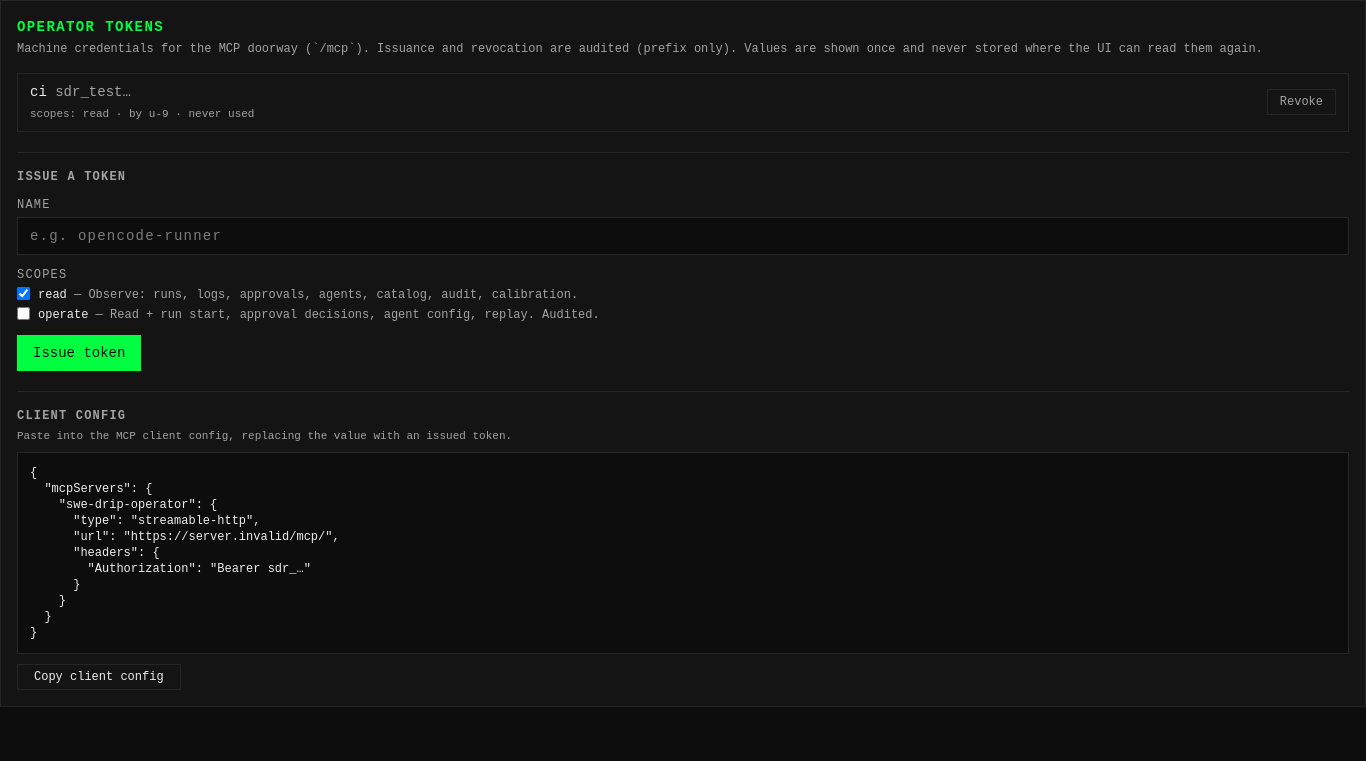
Test: OperatorTokens section › copy uses the clipboard and confirms
Expected: the text "ci" is shown, [30,84,47,100]
Step 1. Type "ci-2" into the field with placeholder "e.g. opencode-runner" → {"x": 683, "y": 236}, box [17,216,1349,254]
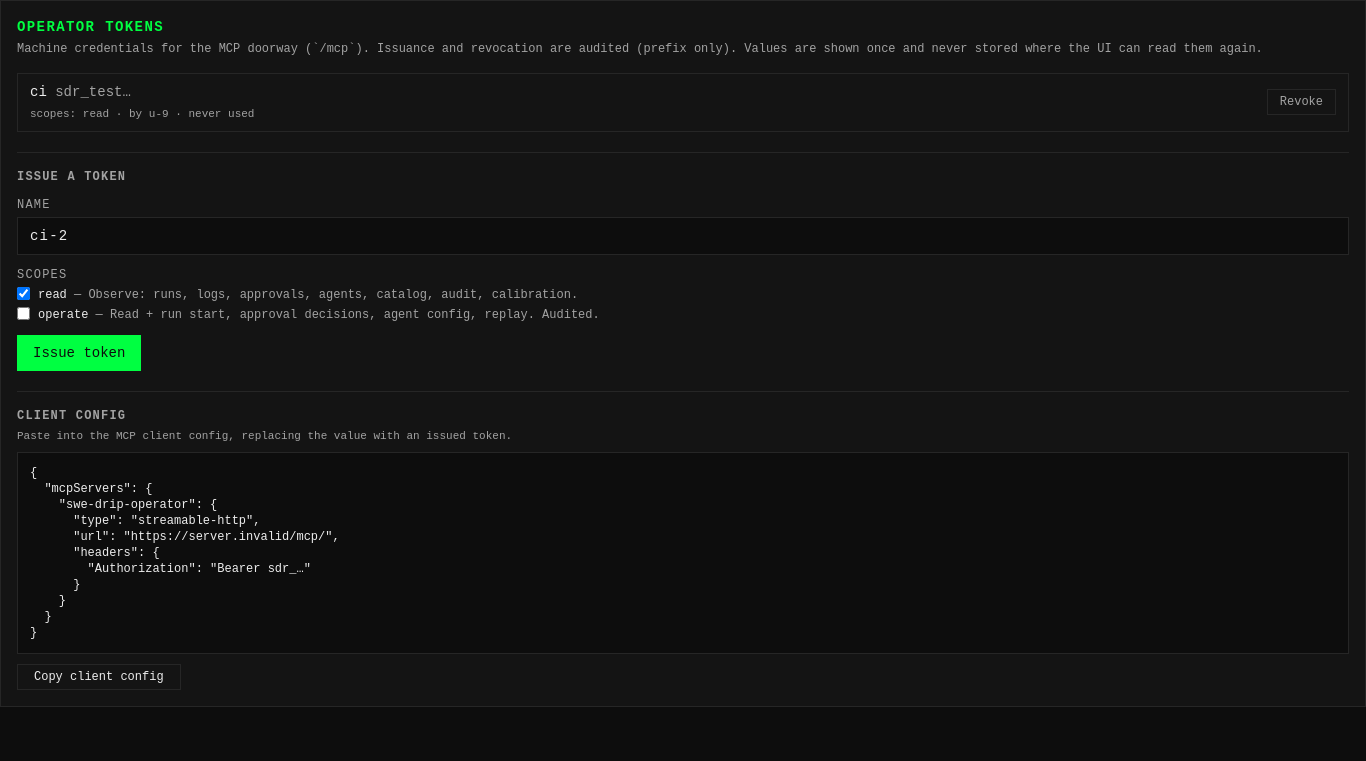
Step 2. Click the button "Issue token" → {"x": 79, "y": 352}, box [17,334,141,370]
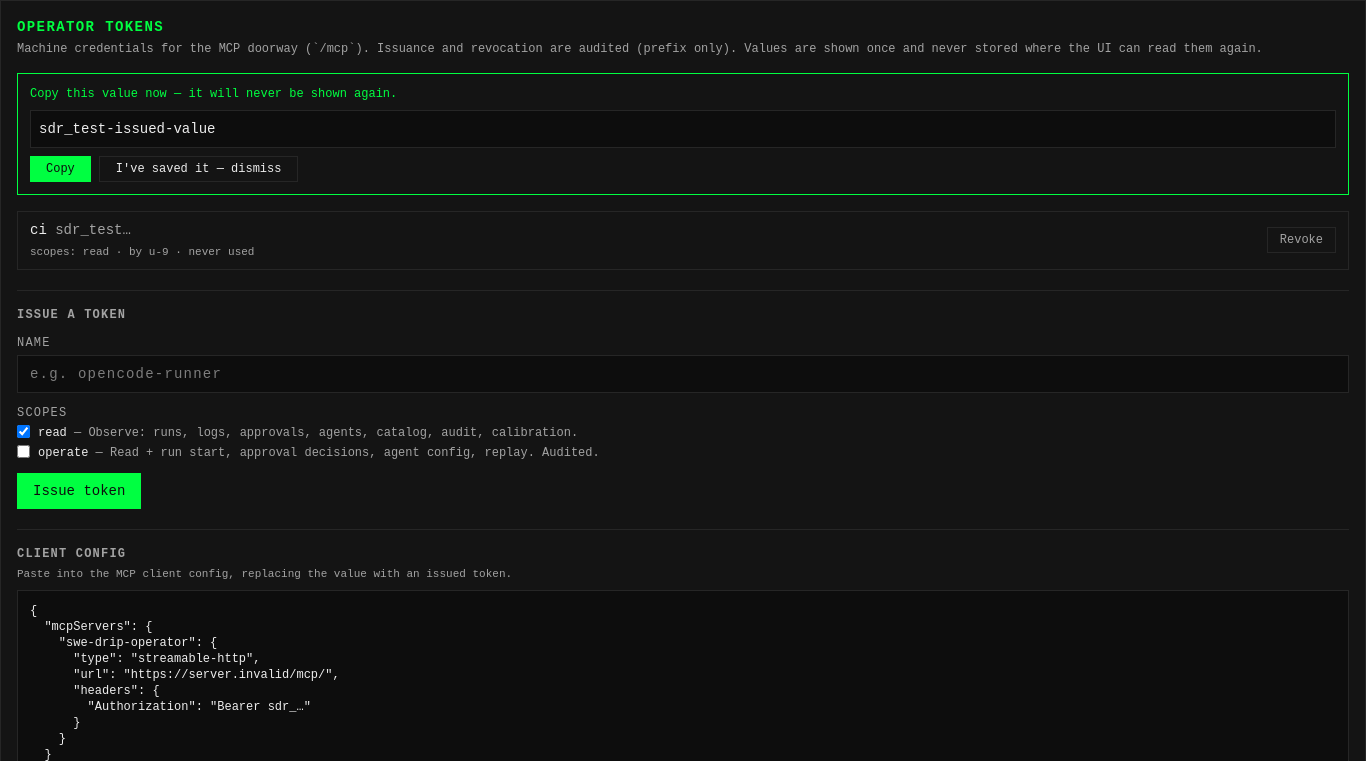
Now the element with test id "issued-token" is shown, box [17,73,1349,195]
Step 3. Click the button "Copy" → {"x": 60, "y": 169}, box [30,156,91,182]
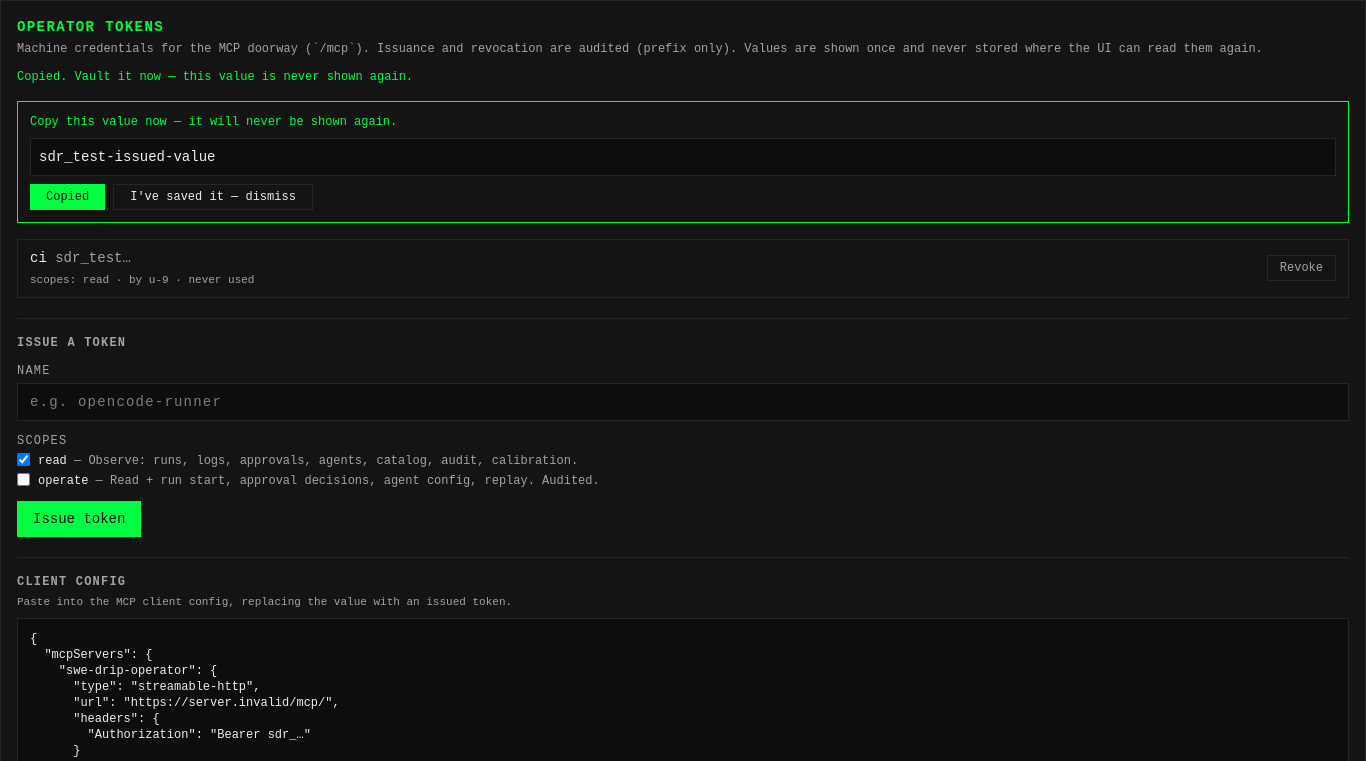
Now the button "Copied" is shown, box [30,184,105,210]
